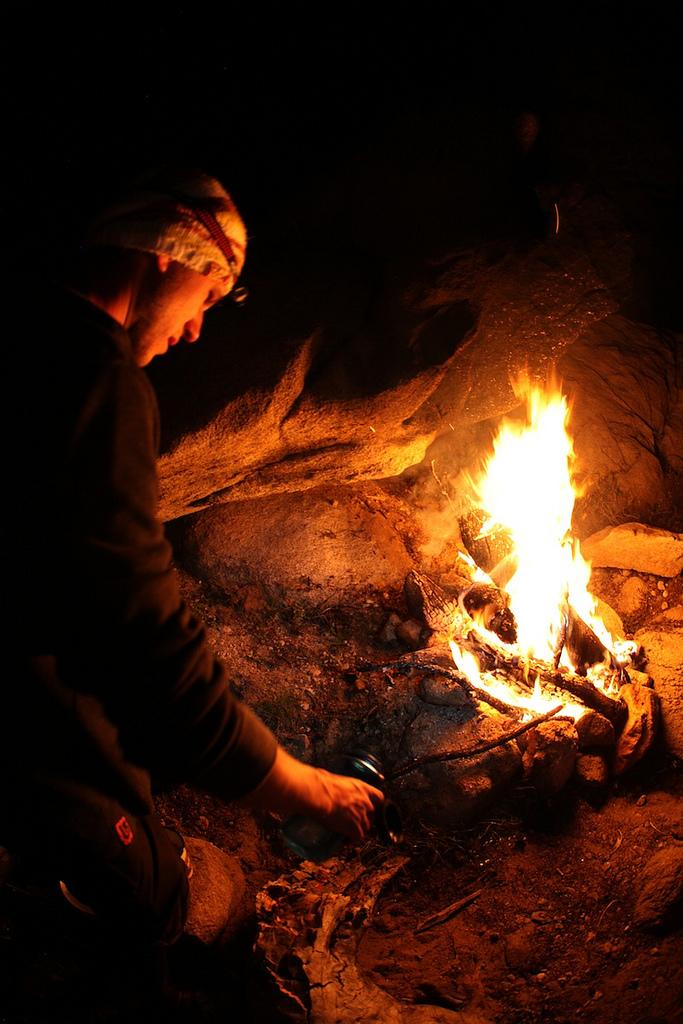fire: (485, 422, 602, 650)
